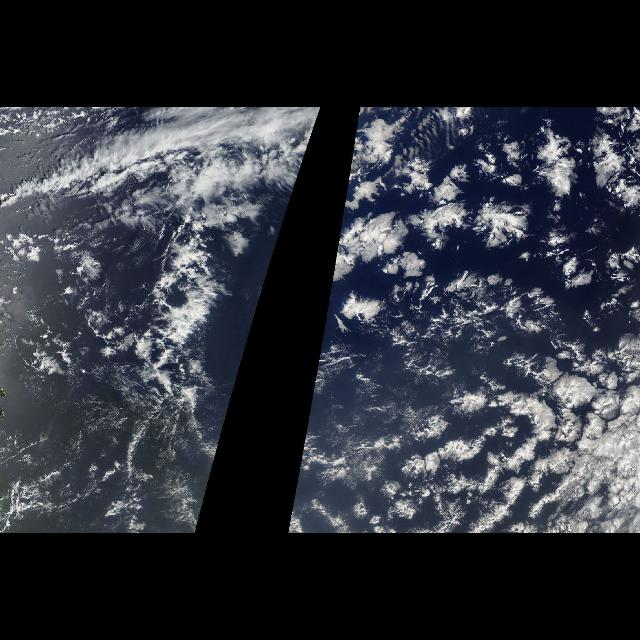Flower: (319, 285, 639, 533)
